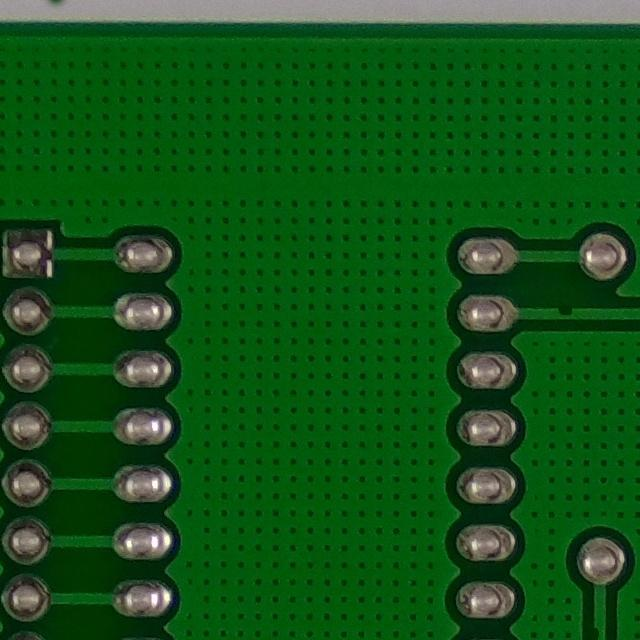mouse_bite: (544, 296, 585, 331), (581, 615, 613, 640)
